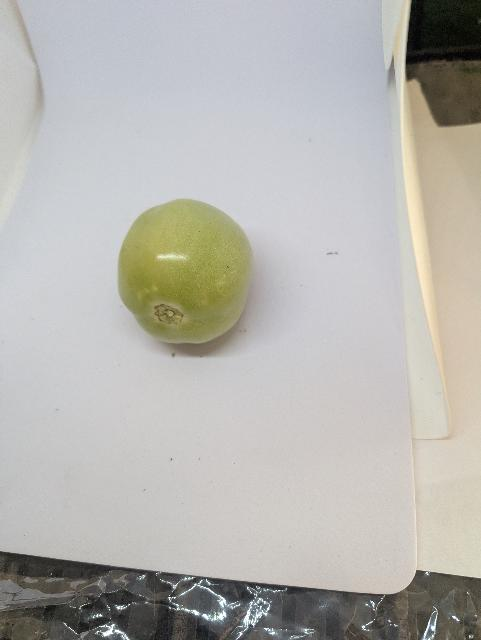green: (117, 196, 254, 347)
